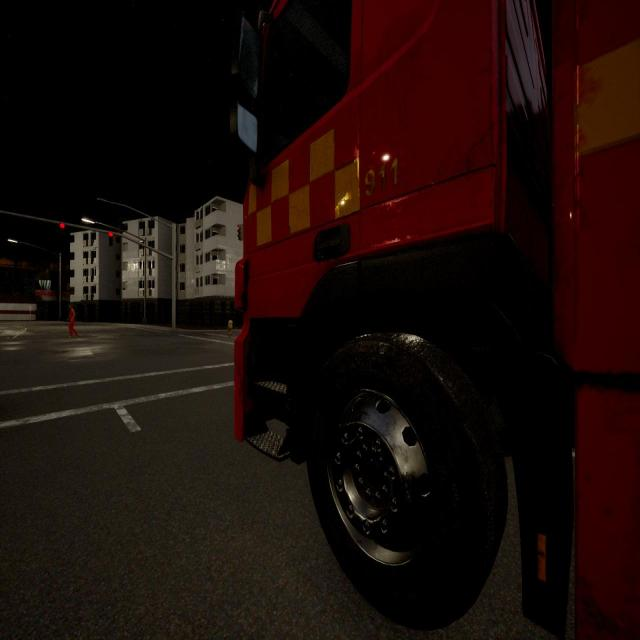Pedestrian: (68, 305, 77, 337), (228, 318, 232, 336)
Traffic_Signs: (28, 306, 32, 310)
Vehicle: (237, 0, 640, 639)
traffic_light: (238, 224, 242, 240), (109, 232, 113, 246), (60, 222, 64, 235)
